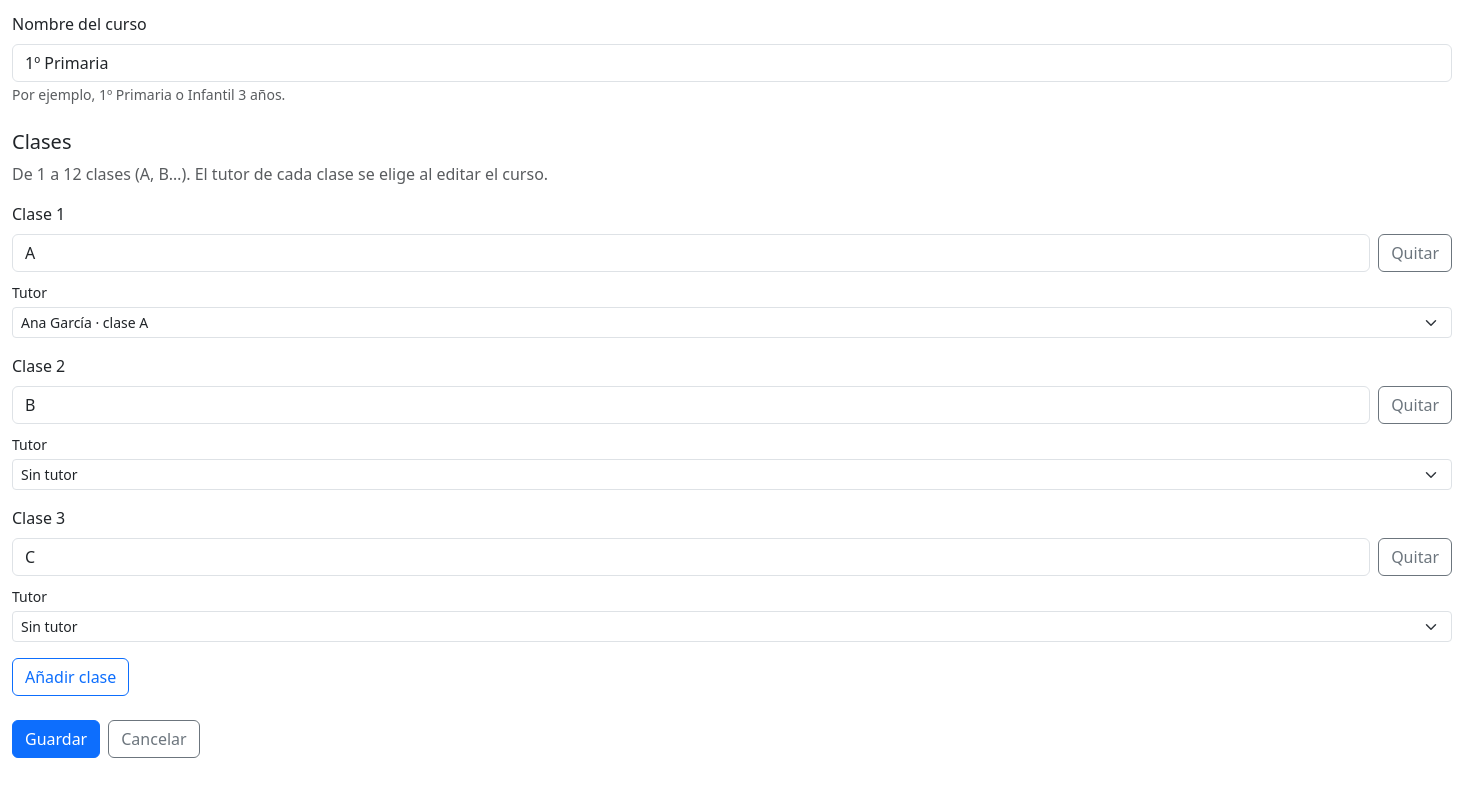
Test: CourseForm choosing the tutor of each class › shows a select per row, also the new ones, labelled "Tutor" and named "Tutor de la clase N"
Click the button "Añadir clase".
click(71, 677)  # box 12,658 -> 129,696
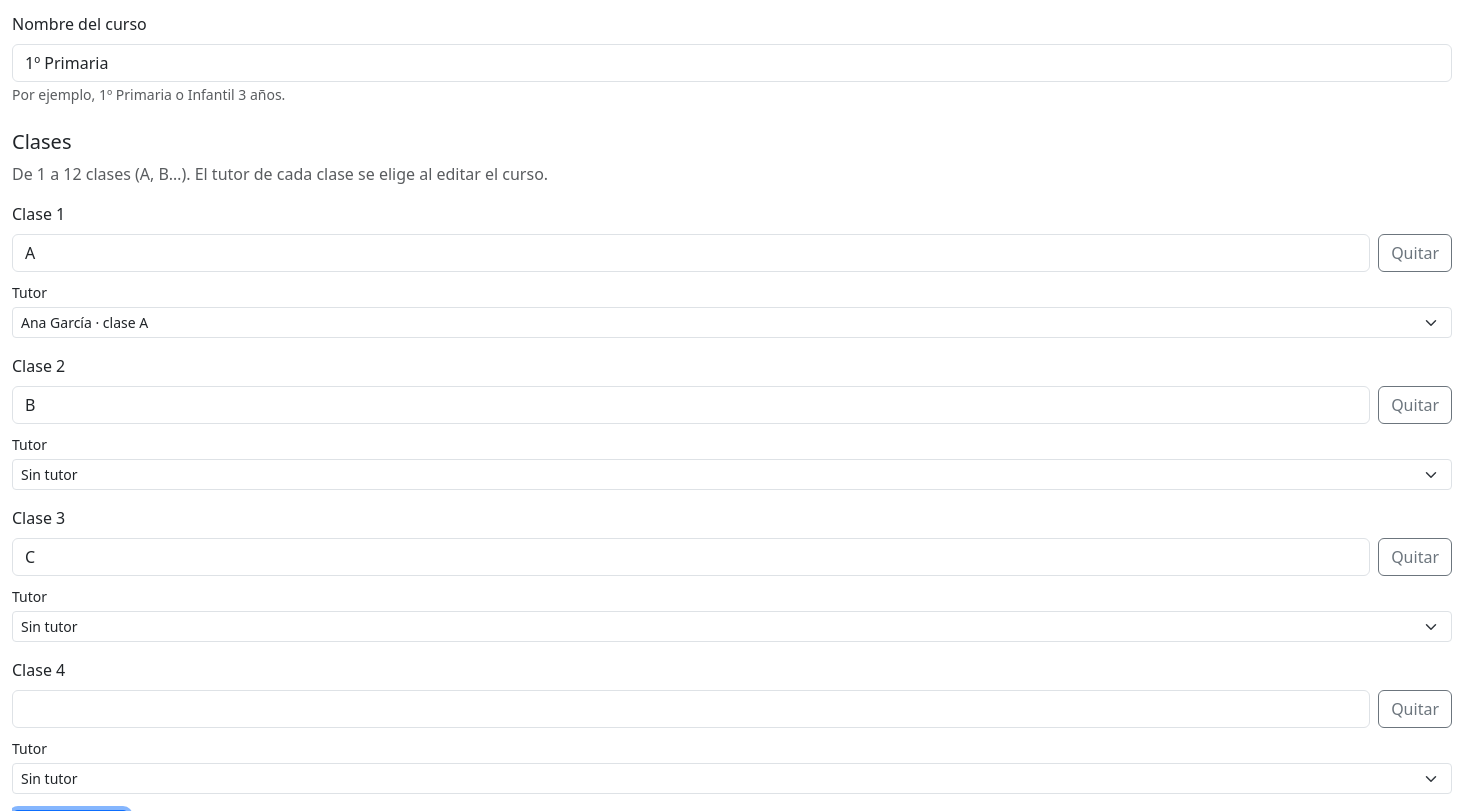
Expected: the text "Tutor" is shown 4 times, 12,282 -> 47,303; 12,434 -> 47,455; 12,586 -> 47,607; 12,738 -> 47,759
